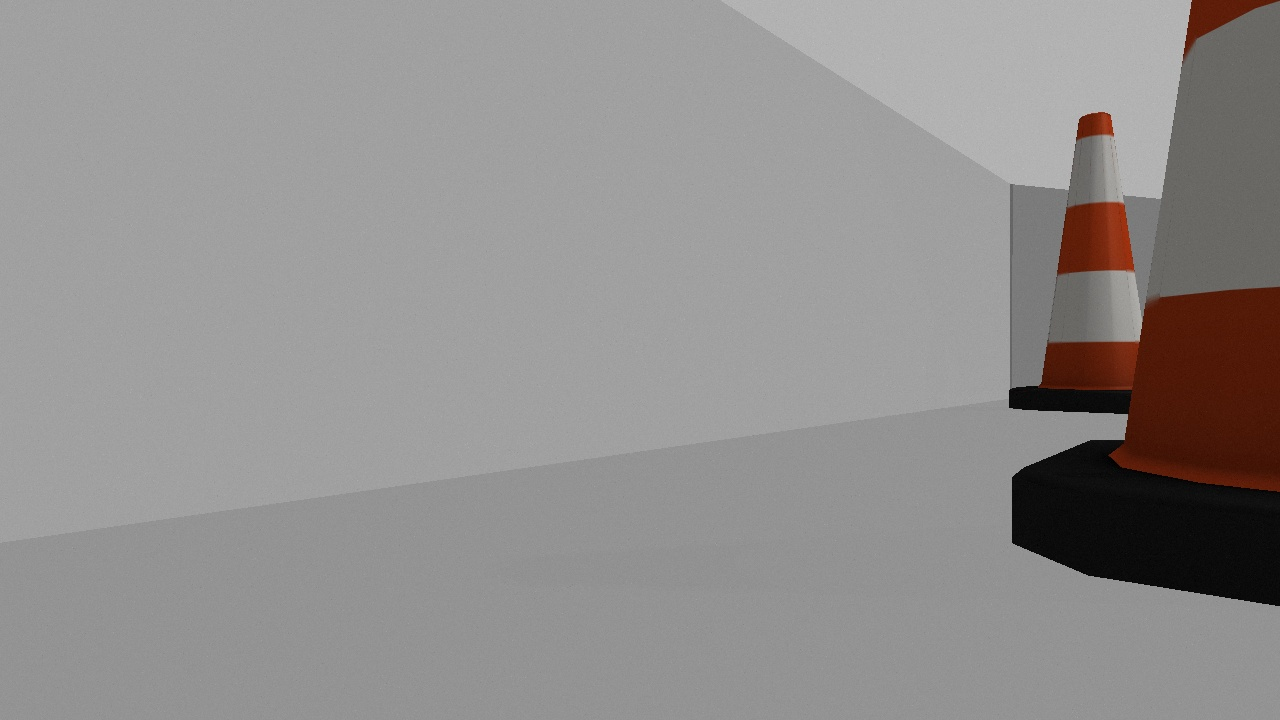barricade: (1010, 1, 1280, 615), (1007, 111, 1175, 412)
